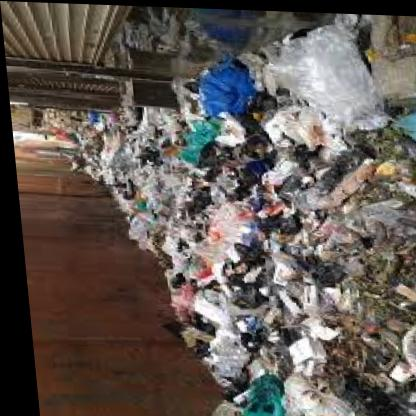Plastic: (275, 17, 384, 135), (193, 51, 262, 121), (214, 372, 281, 416), (168, 120, 228, 164), (216, 232, 267, 270)
